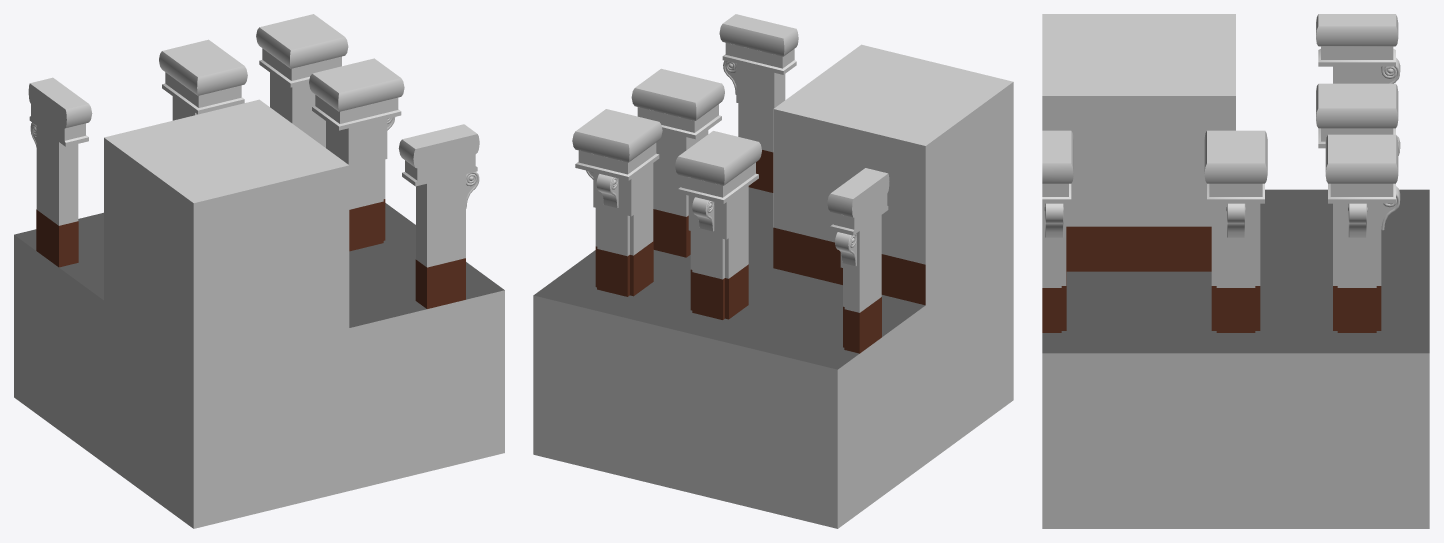
Rendered from House_Base_Side_cvx_var0.fbx.
3 renders of one model, left to right at view 1: azimuth 30°, elevation 25°; view 2: azimuth 150°, elevation 25°; view 3: azimuth 270°, elevation 25°, orthographic. The views are drawn at different scales.
Parts seen in each view (by area): view 1: House_Base_Side_cvx_MESH; view 2: House_Base_Side_cvx_MESH; view 3: House_Base_Side_cvx_MESH.
Part boxes in pixels (x1,y1,x2,y2): House_Base_Side_cvx_MESH: [14, 14, 504, 528]; House_Base_Side_cvx_MESH: [533, 14, 1013, 528]; House_Base_Side_cvx_MESH: [1042, 14, 1429, 528].
Size of the model in its own units: 4 by 4 by 4.
